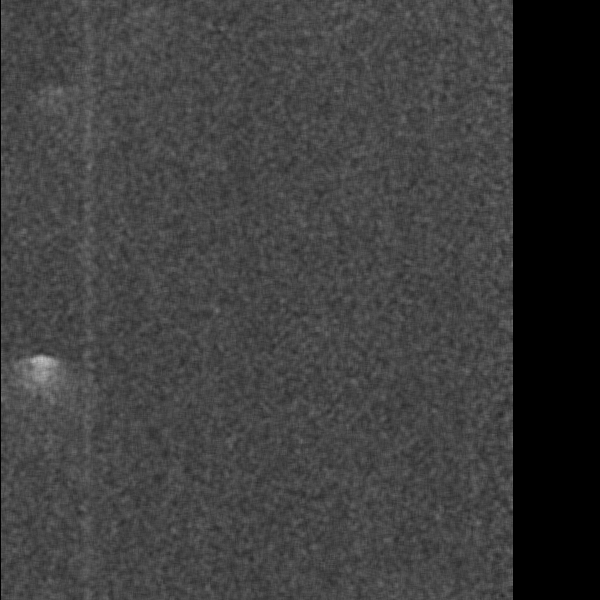spark: (14, 349, 65, 420), (49, 82, 70, 112)
